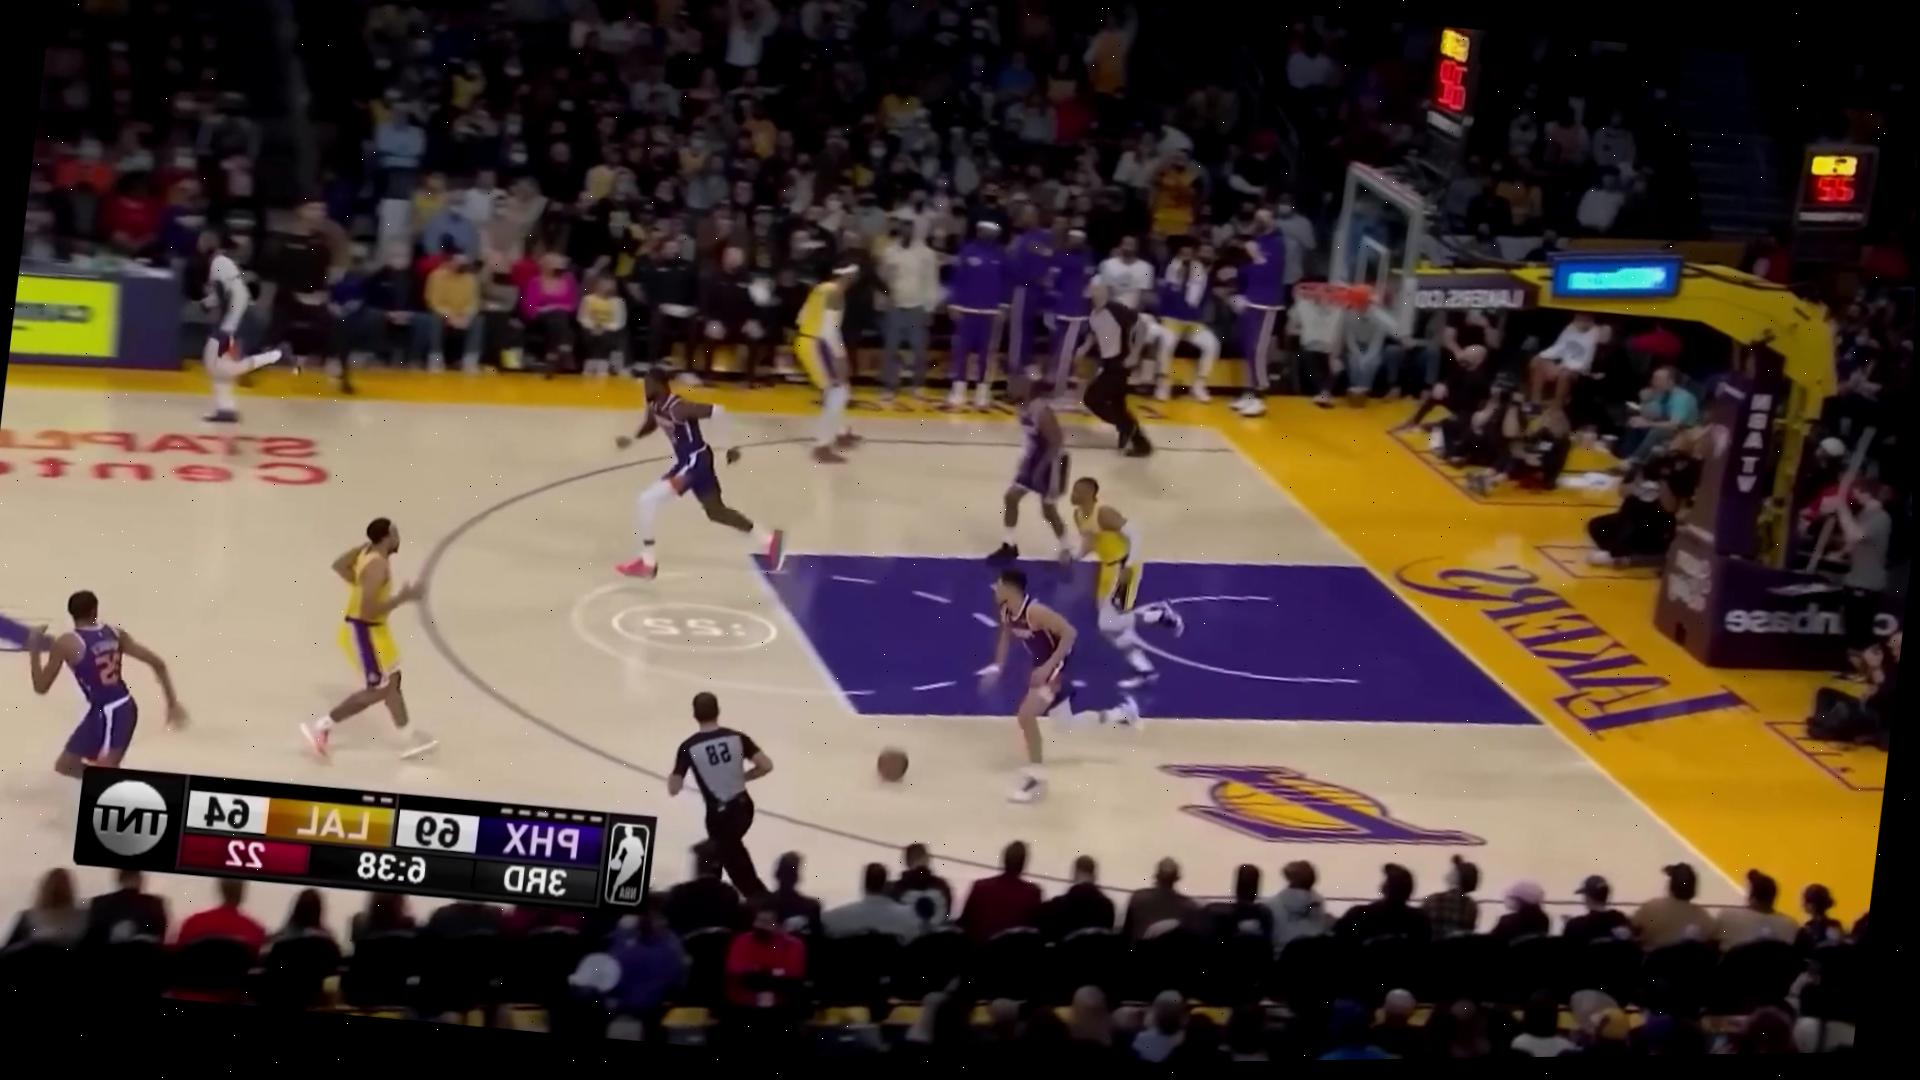no_foul: (900, 455, 1207, 818)
